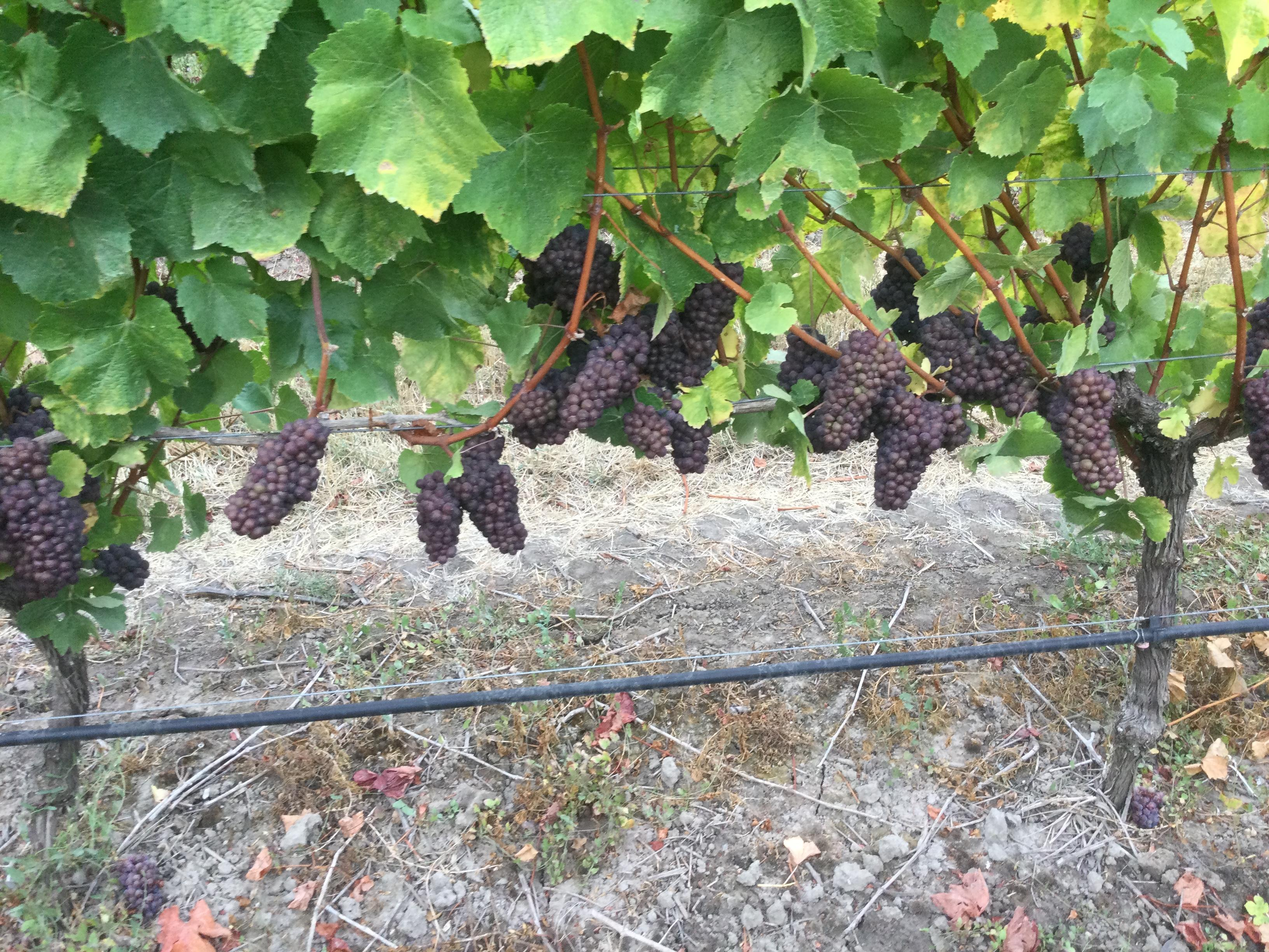leaf: (307, 11, 500, 220), (639, 0, 801, 139), (454, 103, 594, 257), (60, 21, 221, 152), (199, 0, 330, 145), (33, 296, 192, 413), (0, 33, 96, 215), (0, 187, 130, 302), (191, 145, 320, 257), (731, 94, 858, 203), (362, 242, 496, 340), (93, 136, 194, 261), (308, 173, 423, 275), (1134, 58, 1236, 168), (481, 0, 643, 66), (161, 0, 290, 74), (975, 54, 1066, 156), (610, 211, 711, 301), (812, 68, 904, 163), (1087, 47, 1177, 135), (177, 257, 266, 345), (844, 4, 937, 86), (161, 130, 262, 192), (422, 210, 506, 283), (1106, 0, 1194, 68), (793, 0, 878, 70), (13, 586, 97, 653), (171, 345, 253, 413), (968, 18, 1045, 89), (400, 337, 484, 401), (701, 193, 776, 260), (332, 333, 400, 406), (930, 3, 998, 74), (267, 294, 322, 380), (1031, 162, 1096, 234), (42, 394, 131, 446), (1211, 0, 1268, 81), (485, 301, 542, 379), (948, 151, 1019, 213), (320, 281, 366, 373), (914, 255, 979, 317), (400, 0, 482, 46), (680, 366, 741, 427), (896, 87, 946, 150), (743, 282, 797, 334), (0, 273, 40, 340), (1009, 0, 1085, 33), (398, 446, 451, 492), (318, 0, 399, 28), (884, 0, 936, 42), (1233, 86, 1268, 148), (231, 382, 273, 430), (1130, 211, 1164, 270), (1129, 495, 1171, 541), (147, 500, 183, 552), (1054, 324, 1087, 376), (1110, 238, 1133, 310), (274, 384, 308, 428), (886, 3, 890, 11), (507, 0, 517, 2), (302, 411, 306, 415), (772, 231, 775, 236), (919, 37, 925, 39), (472, 330, 477, 332), (1014, 4, 1016, 9), (332, 360, 334, 364), (1035, 50, 1039, 52), (0, 172, 2, 175), (261, 332, 262, 336), (233, 67, 236, 68), (239, 384, 240, 387), (336, 407, 338, 408), (1244, 87, 1246, 88), (640, 244, 641, 246), (1098, 73, 1099, 74), (244, 381, 245, 382), (266, 404, 267, 405), (671, 225, 672, 226), (926, 91, 928, 91), (1033, 53, 1033, 54), (773, 242, 773, 242), (1045, 454, 1046, 454)
